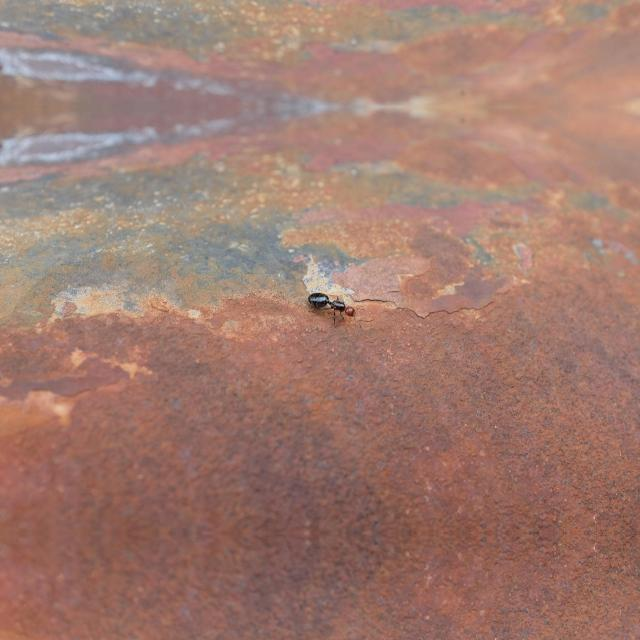Crematogaster: (305, 288, 357, 324)
